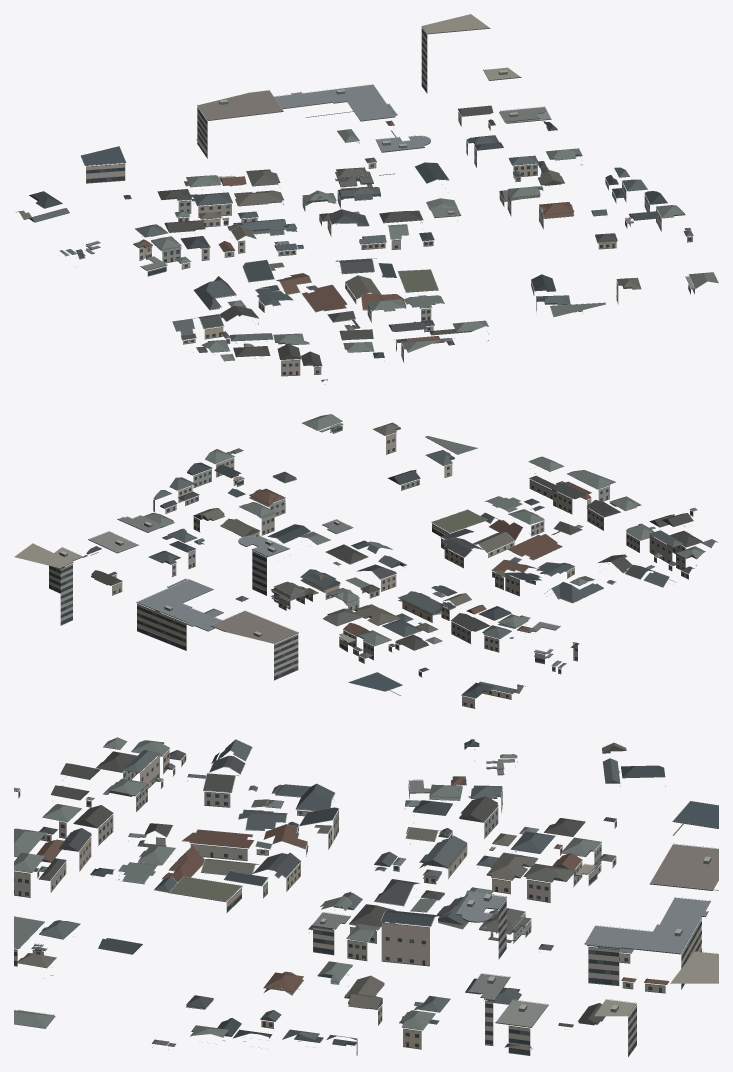
The picture shows the model from 3 angles, top to bottom: view 1: azimuth 30°, elevation 25°; view 2: azimuth 150°, elevation 25°; view 3: azimuth 270°, elevation 25°; orthographic projection. The views are drawn at different scales.
Parts seen in each view (by area): view 1: r2-c4; view 2: r2-c4; view 3: r2-c4.
Part boxes in pixels (x1=…): r2-c4: x1=16, y1=14, x2=718, y2=384; r2-c4: x1=14, y1=414, x2=718, y2=708; r2-c4: x1=14, y1=737, x2=718, y2=1057.
Size of the model in its own units: 250 by 31.23 by 250.
